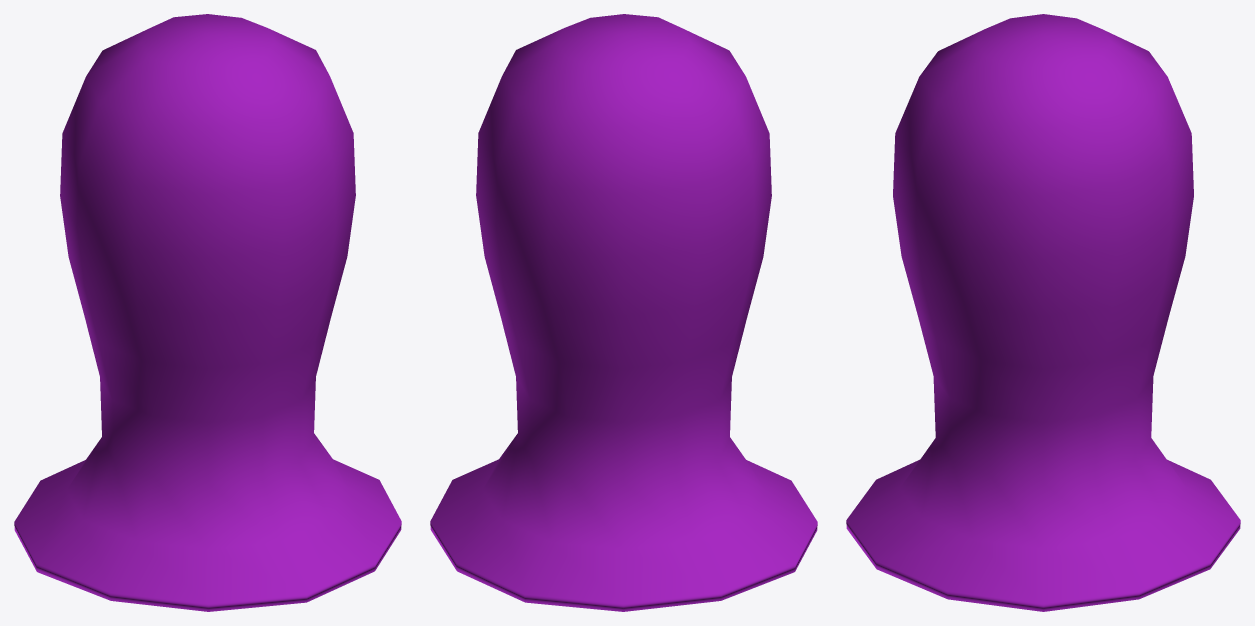
Rendered from Obstacle.fbx.
3 renders of one model, left to right at view 1: azimuth 30°, elevation 25°; view 2: azimuth 150°, elevation 25°; view 3: azimuth 270°, elevation 25°, orthographic.
Parts seen in each view (by area): view 1: nurbsToPoly1; view 2: nurbsToPoly1; view 3: nurbsToPoly1.
Part boxes in pixels (x1,y1,x2,y2): nurbsToPoly1: (14,14,401,611); nurbsToPoly1: (430,14,817,611); nurbsToPoly1: (846,14,1240,611).
Bounding box in the file's own units: 13.04 × 18 × 13.04.
Materials: 1 (1 with a texture image).
